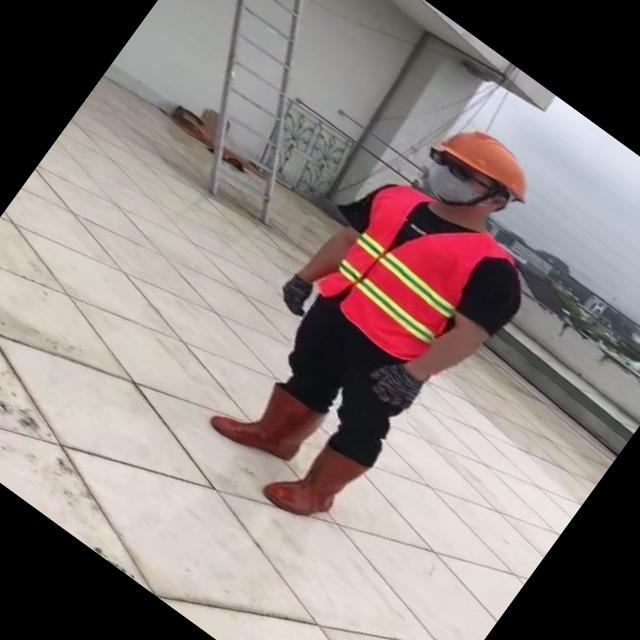hard_hat: (426, 103, 548, 210)
safety_vest: (298, 160, 528, 388)
vehicle: (161, 75, 602, 562)
work_boots: (202, 359, 324, 476), (258, 423, 372, 539)
